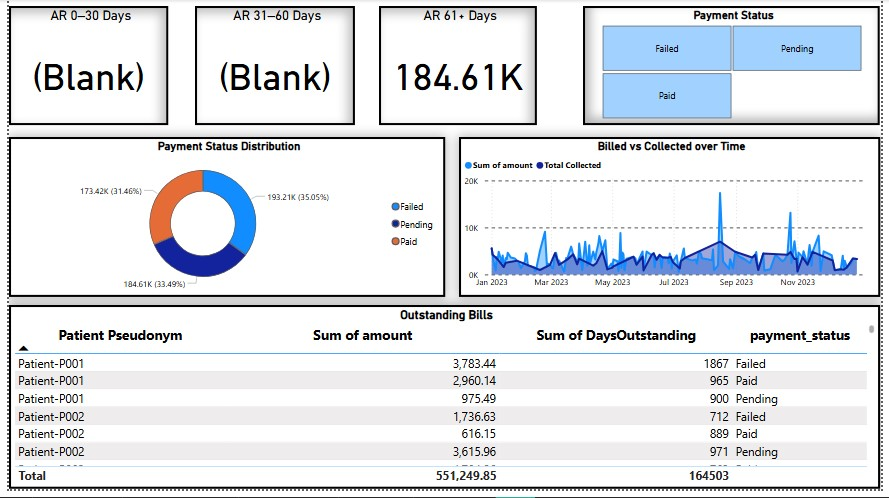

This screenshot's page, from the dashboard's own definition file:
{"tool":"powerbi","page":{"name":"Billing","canvas":[1280,720],"ordinal":4},"visuals":[{"type":"areaChart","title":"Billed vs Collected over Time","fields":{"Category":["billing.bill_date"],"Y":["Sum(billing.amount)","measurse.Total Collected"]},"box":[661.2,202.8,618.6,235.1],"z":0},{"type":"donutChart","title":"Payment Status Distribution","fields":{"Category":["billing.payment_status"],"Y":["Sum(billing.amount)"]},"box":[0,202.8,640.7,235.1],"z":1},{"type":"card","title":"AR 61+ Days","fields":{"Values":["billing.AR_61_plus"]},"box":[543.6,10.6,232.3,174.6],"z":2},{"type":"card","title":"AR 0–30 Days","fields":{"Values":["billing.AR_0_30"]},"box":[0,10.3,233.6,174.9],"z":3},{"type":"card","title":"AR 31–60 Days","fields":{"Values":["billing.AR_31_60"]},"box":[273.3,10.3,235.1,174.9],"z":4},{"type":"tableEx","title":"Outstanding Bills","fields":{"Values":["patients.Patient Pseudonym","Sum(billing.amount)","Sum(billing.DaysOutstanding)","billing.payment_status"]},"box":[0,449.6,1279.8,270.4],"z":5},{"type":"slicer","title":"Payment Status","fields":{"Values":["billing.payment_status"]},"box":[843.4,10.3,436.4,174.9],"z":6}]}

Visuals, with their boxes in screenshot pixels (x1, y1, x2, y2), scaled from the page's 1280x720 canvas onto the 889x498 screenshot:
"Billed vs Collected over Time" areaChart: 459/140/888/303
"Payment Status Distribution" donutChart: 0/140/445/303
"AR 61+ Days" card: 378/7/539/128
"AR 0–30 Days" card: 0/7/162/128
"AR 31–60 Days" card: 190/7/353/128
"Outstanding Bills" tableEx: 0/311/888/497
"Payment Status" slicer: 586/7/888/128
